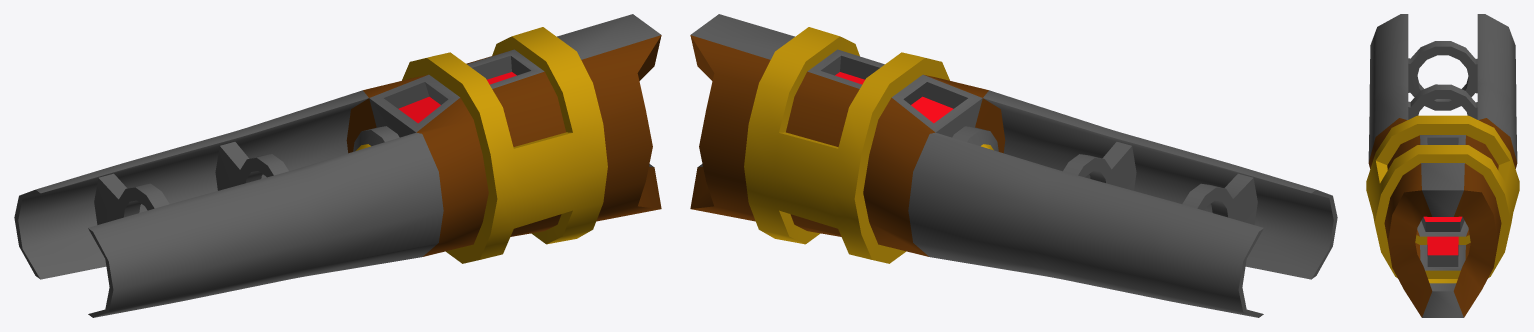
The model's file is ArmaPEM.fbx.
The picture shows the model from 3 angles, left to right: view 1: azimuth 30°, elevation 25°; view 2: azimuth 150°, elevation 25°; view 3: azimuth 270°, elevation 25°; orthographic projection. The views are drawn at different scales.
Parts seen in each view (by area): view 1: ArmaPEM; view 2: ArmaPEM; view 3: ArmaPEM.
Boxes of the visible parts, bbox=[...] form: ArmaPEM: bbox=[14, 14, 661, 317]; ArmaPEM: bbox=[690, 14, 1337, 317]; ArmaPEM: bbox=[1366, 14, 1519, 317].
Size of the model in its own units: 75.1 by 23.03 by 23.34.
